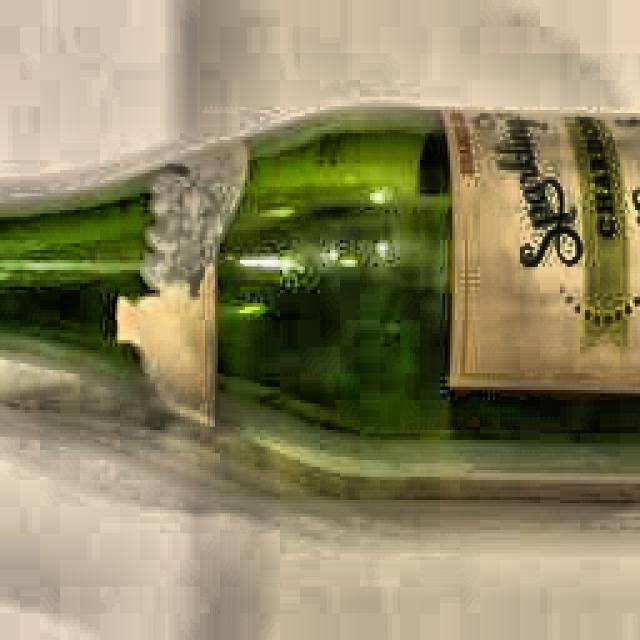glass: (0, 111, 640, 491)
